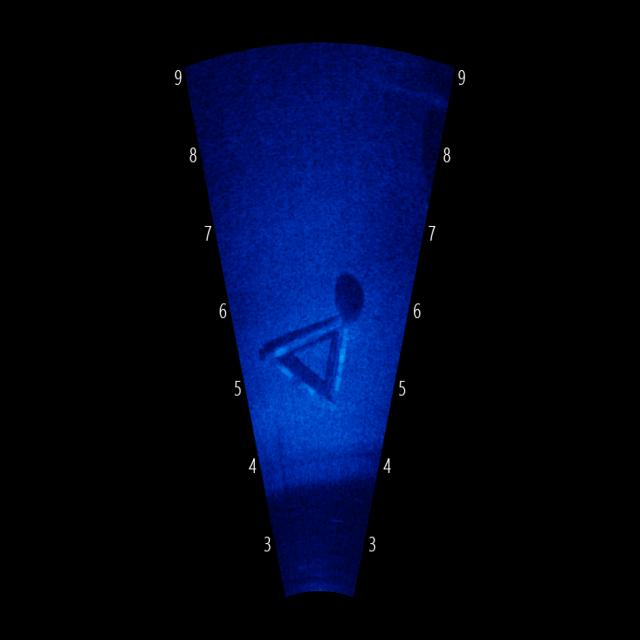triangle: (258, 302, 362, 412)
